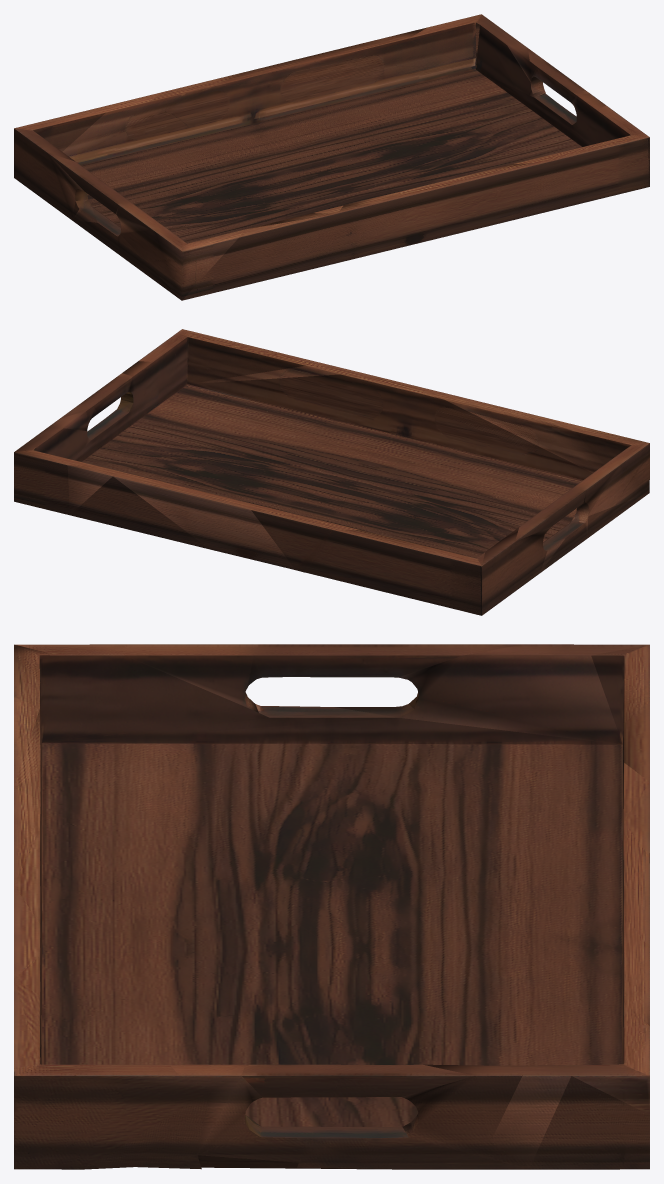
File: PR_OrganizingTray.fbx
3 views of the same model, one above another, from view 1: azimuth 30°, elevation 25°; view 2: azimuth 150°, elevation 25°; view 3: azimuth 270°, elevation 25° (orthographic). The views are drawn at different scales.
Visible parts, largest first — view 1: Mesh_0; view 2: Mesh_0; view 3: Mesh_0.
Part boxes in pixels (x1,y1,x2,y2): Mesh_0: (14, 14, 649, 300); Mesh_0: (14, 329, 649, 615); Mesh_0: (14, 644, 649, 1169).
Bounding box in the file's own units: 190 × 19.25 × 118.
1 material, 1 textured.
